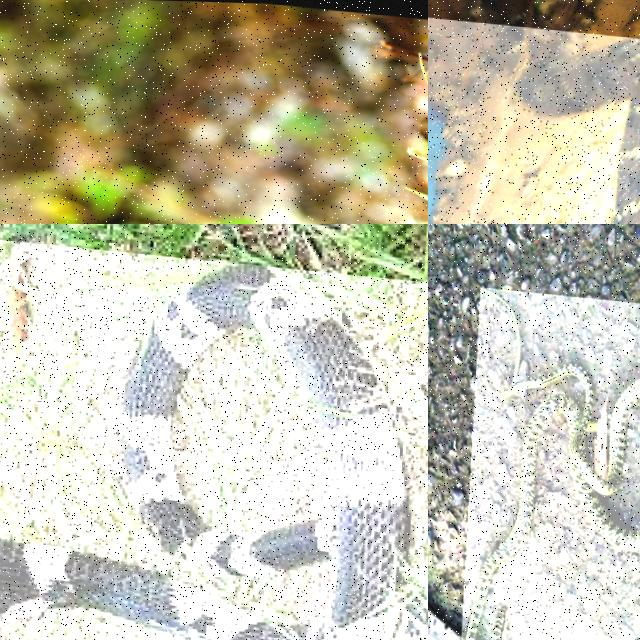Chrysopelea ornata: (466, 288, 639, 639)
Naja siamensis: (0, 264, 408, 639)
Ophiophagus hannah: (518, 38, 639, 223)
